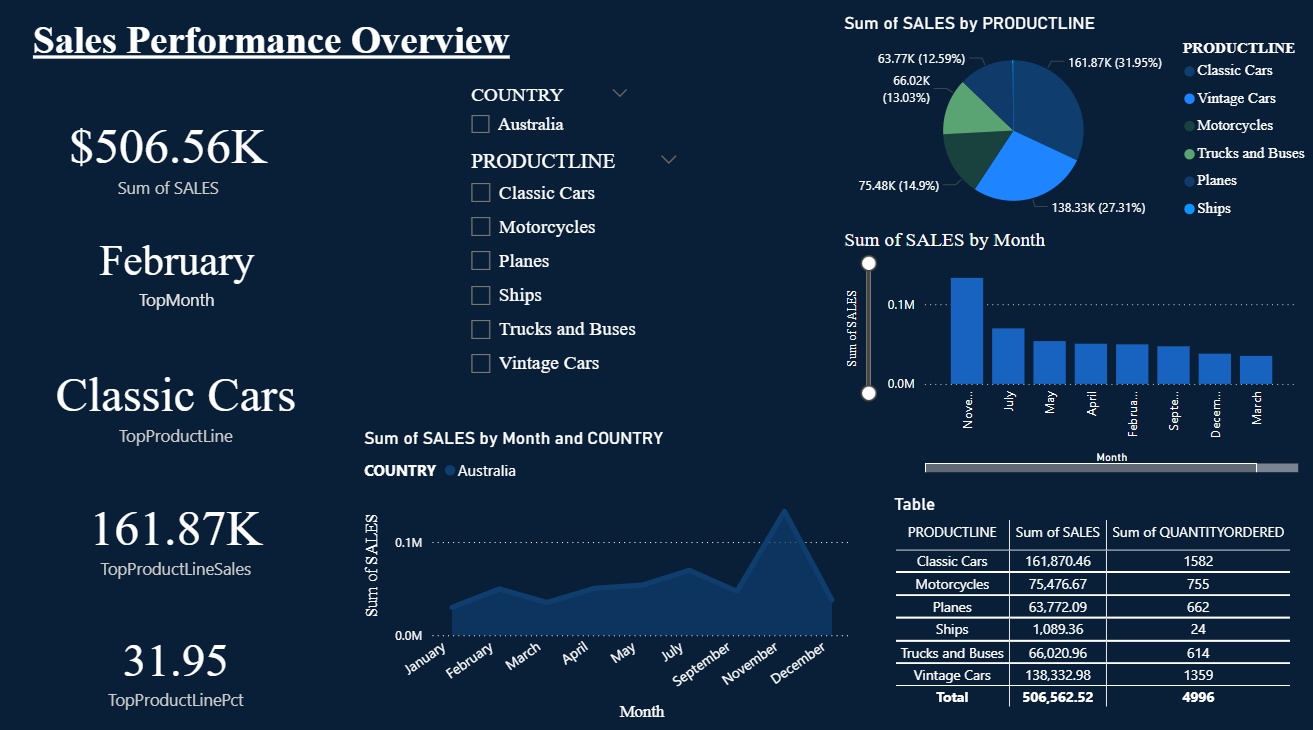

What the dashboard file says about the page in this screenshot:
{"tool":"powerbi","page":{"name":"Page 1","canvas":[1280,720],"ordinal":0},"visuals":[{"type":"clusteredColumnChart","title":"Sum of SALES by Month","fields":{"Category":["Sheet1.Month"],"Y":["Sum(Sheet1.SALES)"]},"box":[816,224,448,240],"z":0},{"type":"pieChart","fields":{"Category":["Sheet1.PRODUCTLINE"],"Y":["Sum(Sheet1.SALES)"]},"box":[816,16,464,208],"z":1000},{"type":"lineChart","fields":{"Category":["Sheet1.ORDERDATE.Variation.Date Hierarchy.Month"],"Y":["Sum(Sheet1.SALES)"],"Series":["Sheet1.COUNTRY"]},"box":[352,416,480,288],"z":2000},{"type":"slicer","fields":{"Values":["Sheet1.COUNTRY"]},"box":[448,80,176,64],"z":3000},{"type":"card","fields":{"Values":["Sum(Sheet1.SALES)"]},"box":[48,96,240,112],"z":4000},{"type":"tableEx","title":"Table","fields":{"Values":["Sheet1.PRODUCTLINE","Sum(Sheet1.SALES)","Sum(Sheet1.QUANTITYORDERED)"]},"box":[864,480,400,224],"z":5000},{"type":"slicer","fields":{"Values":["Sheet1.PRODUCTLINE"]},"box":[448,144,224,240],"z":6000},{"type":"textbox","box":[32,16,496,64],"z":7000},{"type":"card","fields":{"Values":["Sheet1.TopMonth"]},"box":[32,208,288,112],"z":8000},{"type":"card","fields":{"Values":["Sheet1.TopProductLine"]},"box":[16,336,320,112],"z":9000},{"type":"card","fields":{"Values":["Sheet1.TopProductLineSales"]},"box":[16,464,320,112],"z":10000},{"type":"card","fields":{"Values":["Sheet1.TopProductLinePct"]},"box":[16,592,320,112],"z":11000}]}

Visuals, with their boxes in screenshot pixels (x1, y1, x2, y2), scaled from the page's 1280x720 canvas onto the 1313x730 screenshot:
"Sum of SALES by Month" clusteredColumnChart: <bbox>837, 227, 1297, 470</bbox>
pieChart - Sheet1.PRODUCTLINE x Sum(Sheet1.SALES): <bbox>837, 16, 1312, 227</bbox>
lineChart - Sheet1.ORDERDATE.Variation.Date Hierarchy.Month x Sum(Sheet1.SALES): <bbox>361, 422, 853, 714</bbox>
slicer - Sheet1.COUNTRY: <bbox>460, 81, 640, 146</bbox>
card - Sum(Sheet1.SALES): <bbox>49, 97, 295, 211</bbox>
"Table" tableEx: <bbox>886, 487, 1297, 714</bbox>
slicer - Sheet1.PRODUCTLINE: <bbox>460, 146, 689, 389</bbox>
textbox: <bbox>33, 16, 542, 81</bbox>
card - Sheet1.TopMonth: <bbox>33, 211, 328, 324</bbox>
card - Sheet1.TopProductLine: <bbox>16, 341, 345, 454</bbox>
card - Sheet1.TopProductLineSales: <bbox>16, 470, 345, 584</bbox>
card - Sheet1.TopProductLinePct: <bbox>16, 600, 345, 714</bbox>
